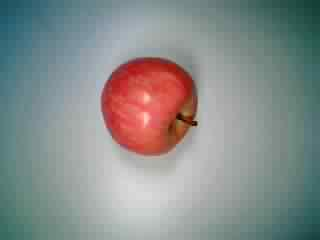apple: (99, 53, 203, 157)
